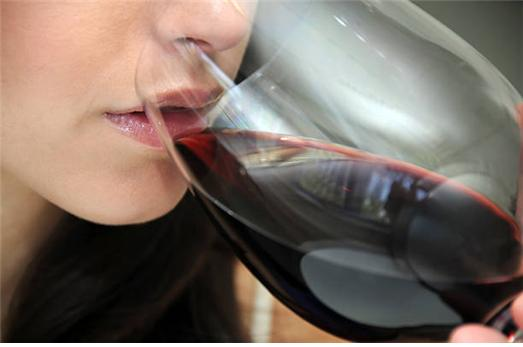alcohol: (130, 1, 523, 341)
